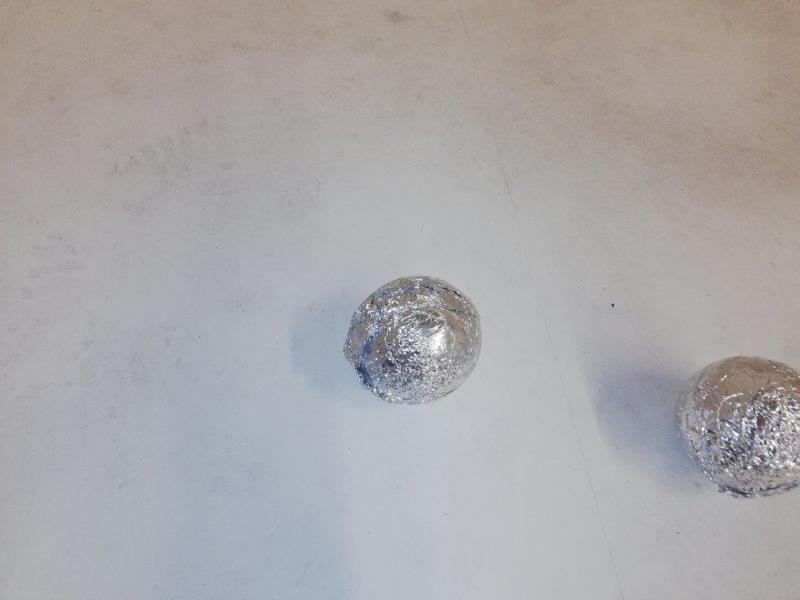bianca: (340, 274, 482, 406), (674, 355, 798, 499)
